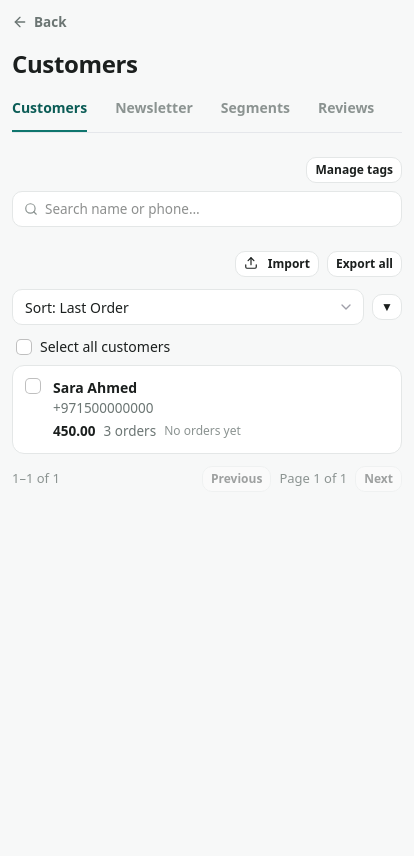
CustomersPage — simple/advanced mode › advanced mode: bulk action bar appears once a row is selected
Expected: the text "Sara Ahmed" is shown, [53, 378, 137, 397]
Click the checkbox named "Select Sara Ahmed": (33, 386) [25, 378, 41, 394]
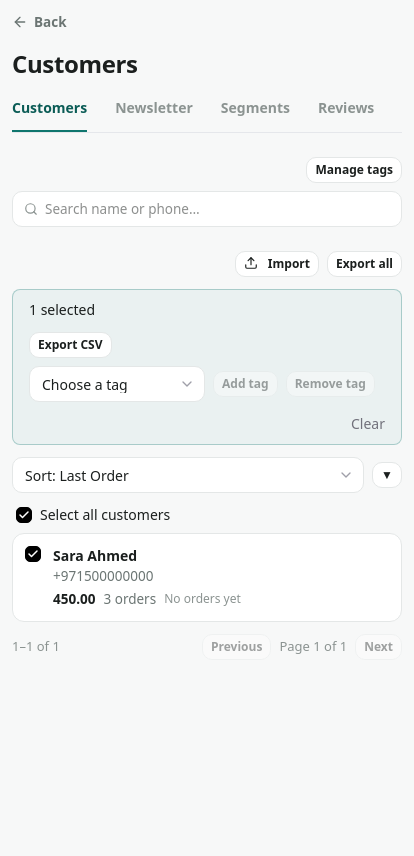
Result: the button "Export CSV" is shown at [29, 332, 112, 358]
